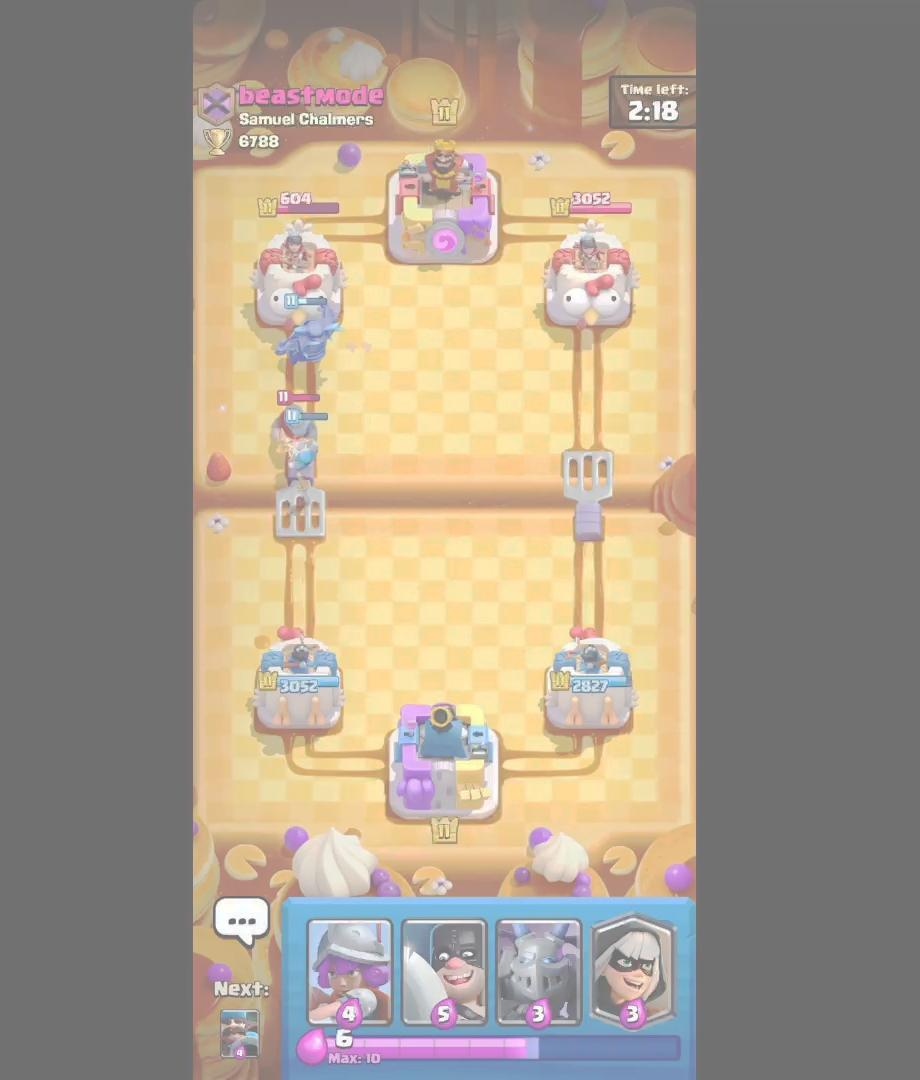Knight: (282, 386, 326, 442)
